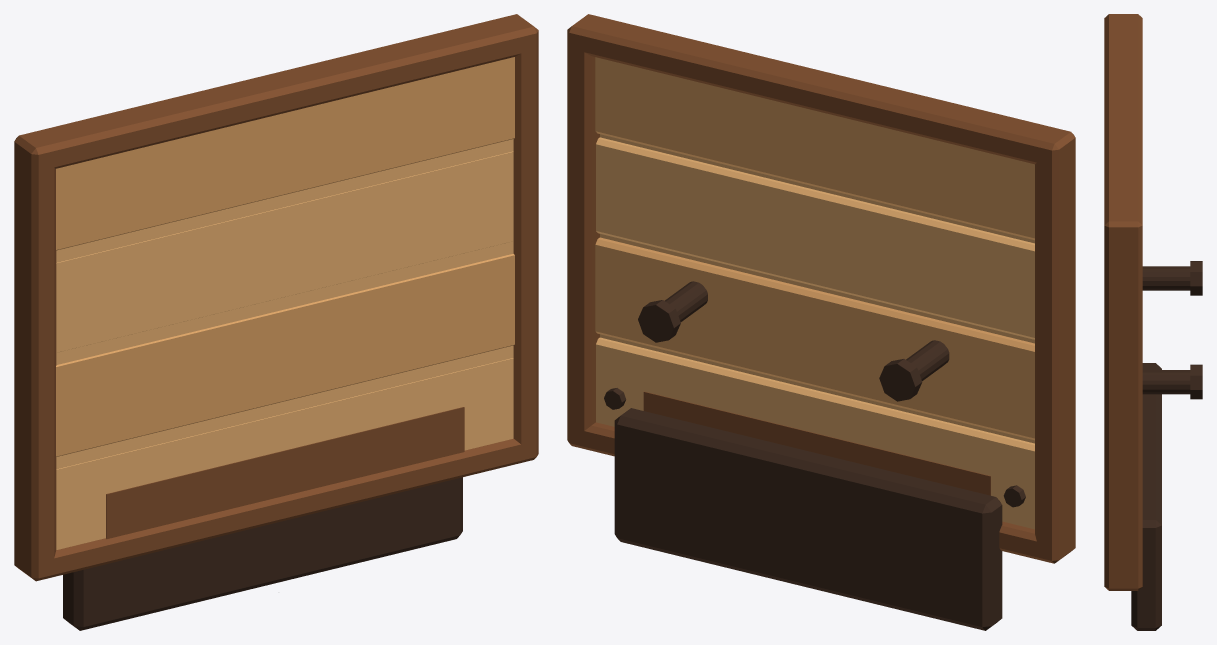
Rendered from tool_wall_frame.glb.
3 views of the same model, side by side, from view 1: azimuth 30°, elevation 25°; view 2: azimuth 150°, elevation 25°; view 3: azimuth 270°, elevation 25° (orthographic). The views are drawn at different scales.
Visible parts, largest first — view 1: WoodPlanks__DAA062, WoodPlanks__E8B070, Wood__804E2C, Wood__3E2A1E; view 2: WoodPlanks__DAA062, WoodPlanks__E8B070, Wood__3E2A1E, Wood__804E2C; view 3: Wood__804E2C, Wood__3E2A1E.
Part boxes in pixels (<box>): WoodPlanks__DAA062: <box>56,57,514,456</box>; WoodPlanks__E8B070: <box>56,139,513,549</box>; Wood__804E2C: <box>14,14,538,581</box>; Wood__3E2A1E: <box>63,477,462,630</box>; WoodPlanks__DAA062: <box>595,57,1034,440</box>; WoodPlanks__E8B070: <box>596,134,1034,529</box>; Wood__3E2A1E: <box>604,281,1025,630</box>; Wood__804E2C: <box>567,14,1075,563</box>; Wood__804E2C: <box>1104,14,1142,590</box>; Wood__3E2A1E: <box>1131,261,1202,630</box>.
Size of the model in its own units: 6.52 by 6.26 by 1.28.
